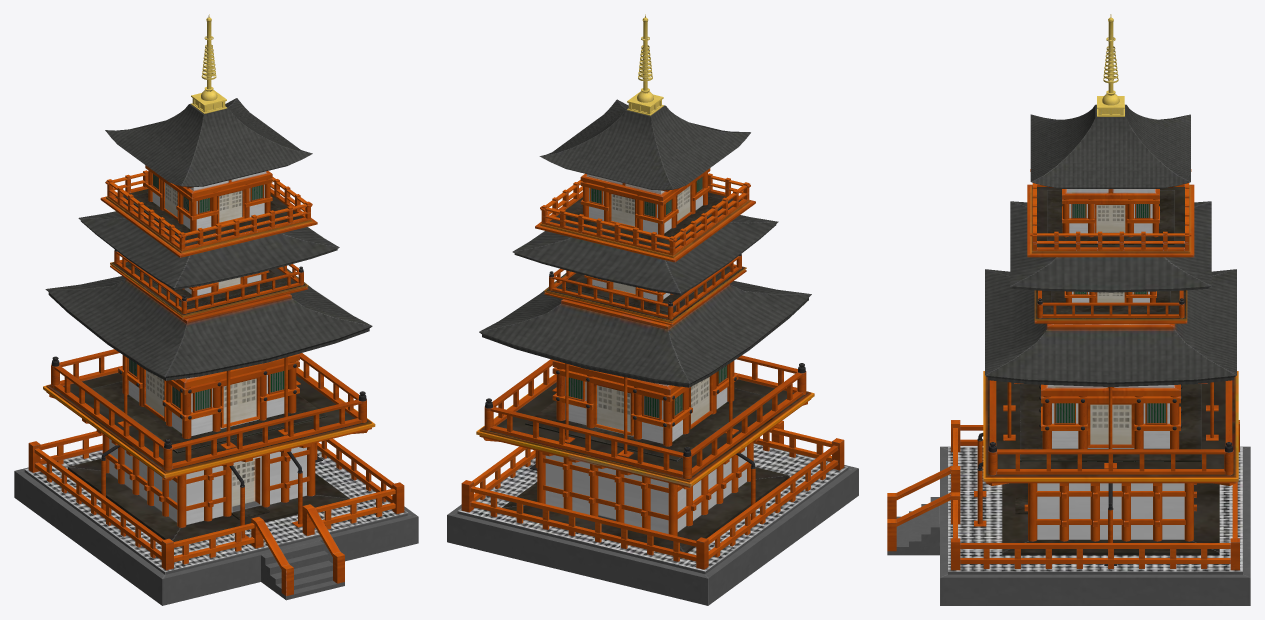
The model's file is japanese-temple.glb.
The picture shows the model from 3 angles, left to right: view 1: azimuth 30°, elevation 25°; view 2: azimuth 150°, elevation 25°; view 3: azimuth 270°, elevation 25°; orthographic projection. The views are drawn at different scales.
Bounding box in the file's own units: 20 × 37.38 × 23.4.
1 material, 1 textured.
